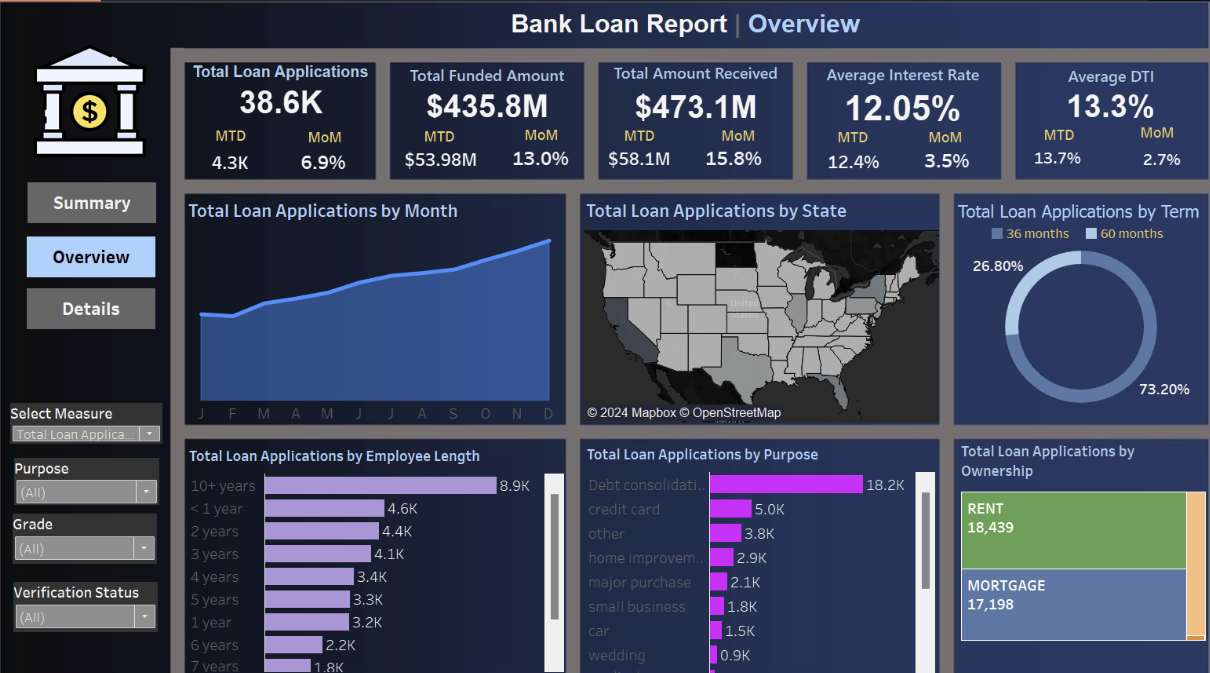

The page's visual inventory and layout, read from the dashboard file:
{"tool":"powerbi","page":{"name":"Overview","canvas":[1280,720],"ordinal":1},"visuals":[{"type":"shape","box":[0,0,1280,70],"z":0},{"type":"shape","box":[194.3,80.5,194.3,117.2],"z":0,"group":"g4"},{"type":"shape","box":[408.3,81.1,194.3,117.2],"z":0,"group":"g1"},{"type":"shape","box":[623.8,81.1,194.3,117.2],"z":0,"group":"g2"},{"type":"shape","box":[837.2,81.1,194.3,117.2],"z":0,"group":"g5"},{"type":"shape","box":[1050.8,82.2,194.3,117.2],"z":0,"group":"g3"},{"type":"shape","box":[0,70,185,650],"z":1000},{"type":"cardVisual","fields":{"Data":["Loan Mesures.Total Loan Amount"]},"box":[397.8,89.1,227,79],"z":1000,"group":"g1"},{"type":"cardVisual","fields":{"Data":["Loan Mesures.Total Amount Received"]},"box":[613.3,89.1,227,79],"z":1000,"group":"g2"},{"type":"cardVisual","fields":{"Data":["Loan Mesures.Avg Interest Rate"]},"box":[826.7,89.1,227,79],"z":1000,"group":"g5"},{"type":"cardVisual","fields":{"Data":["Loan Mesures.Avg DTI"]},"box":[1040.3,90.2,227,79],"z":1000,"group":"g3"},{"type":"cardVisual","title":"MoM","fields":{"Data":["Loan Mesures.MoM Loan Applications"]},"box":[304,151,84,46],"z":1000,"group":"g4"},{"type":"textbox","box":[374,4,598,66],"z":2000},{"type":"textbox","box":[397.8,82.4,205,28.8],"z":2000,"group":"g1"},{"type":"textbox","box":[613.3,82.4,205,28.8],"z":2000,"group":"g2"},{"type":"textbox","box":[826.7,82.4,205,28.8],"z":2000,"group":"g5"},{"type":"textbox","box":[1040.3,83.5,205,28.8],"z":2000,"group":"g3"},{"type":"cardVisual","fields":{"Data":["bank_loan_data.Total Loan Applications"]},"box":[195,86.8,193.5,80],"z":2000,"group":"g4"},{"type":"textbox","box":[183.8,81.8,205,28.8],"z":3000,"group":"g4"},{"type":"cardVisual","title":"MTD","fields":{"Data":["Loan Mesures.MTD Founded Amount"]},"box":[408.6,153.6,83.3,45],"z":3000,"group":"g1"},{"type":"cardVisual","title":"MTD","fields":{"Data":["Loan Mesures.MTD Amount Received"]},"box":[624.1,153.6,83.3,45],"z":3000,"group":"g2"},{"type":"cardVisual","title":"MTD","fields":{"Data":["Loan Mesures.MTD Avg Interest Rate"]},"box":[837.5,153.6,83.3,45],"z":3000,"group":"g5"},{"type":"cardVisual","title":"MTD","fields":{"Data":["Loan Mesures.MTD Avg DTI"]},"box":[1051.1,154.7,83.3,45],"z":3000,"group":"g3"},{"type":"shape","box":[194,216,405,235],"z":3000},{"type":"group","id":"g1","title":"Group 2","box":[397.8,81.1,227,117.5],"z":4000},{"type":"cardVisual","title":"MoM","fields":{"Data":["Loan Mesures.MoM Founded Amount"]},"box":[518.8,152.1,84,46],"z":4000,"group":"g1"},{"type":"cardVisual","title":"MoM","fields":{"Data":["Loan Mesures.MoM Amount Received"]},"box":[734.3,152.1,84,46],"z":4000,"group":"g2"},{"type":"cardVisual","title":"MoM","fields":{"Data":["Loan Mesures.MoM Avg Interest Rate"]},"box":[947.7,152.1,84,46],"z":4000,"group":"g5"},{"type":"cardVisual","title":"MTD","fields":{"Data":["Loan Mesures.MTD Loan Applications"]},"box":[194,152.4,84.2,45.8],"z":4000,"group":"g4"},{"type":"cardVisual","title":"MoM","fields":{"Data":["Loan Mesures.MoM Avg DTI"]},"box":[1161.3,153.2,84,46],"z":4000,"group":"g3"},{"type":"group","id":"g2","title":"Group 2","box":[613.3,81.1,227.8,117.8],"z":5000},{"type":"group","id":"g3","title":"Group 2","box":[1040.3,82.2,227,117.5],"z":6000},{"type":"group","id":"g4","title":"Group 1","box":[183.8,80.5,205,117.7],"z":7000},{"type":"group","id":"g5","title":"Group 2","box":[826.7,81.1,226.7,118.9],"z":8000},{"type":"slicer","fields":{"Values":["bank_loan_data.address_state"]},"box":[8.1,449,167.1,57.1],"z":9000},{"type":"textbox","box":[8.1,413.3,185.7,35.7],"z":10000},{"type":"slicer","fields":{"Values":["bank_loan_data.grade"]},"box":[9.5,549.5,167.1,57.1],"z":11000},{"type":"textbox","box":[9.5,513.8,185.7,35.7],"z":12000},{"type":"slicer","fields":{"Values":["bank_loan_data.good vs bad loan"]},"box":[9.5,645.7,167.1,57.1],"z":13000},{"type":"textbox","box":[9.5,610,185.7,35.7],"z":14000},{"type":"areaChart","fields":{"Y":["Loan Mesures.Total Loan Applications"],"Category":["Date Table.Month"]},"box":[196,226,403,226],"z":15000},{"type":"slicer","fields":{"Values":["Select Measure.Select Measure"]},"box":[5.1,343.8,176,60],"z":16000},{"type":"textbox","box":[5.1,307.8,158,36],"z":17000},{"type":"shape","box":[613,218,377,234],"z":18000},{"type":"shapeMap","fields":{"Value":["Loan Mesures.Total Loan Applications"],"Category":["bank_loan_data.address_state"]},"box":[613,226,418,224],"z":19000},{"type":"shape","box":[1002,216,244,235],"z":20000},{"type":"donutChart","fields":{"Y":["Loan Mesures.Total Loan Applications"],"Category":["bank_loan_data.term"]},"box":[1002,226,254,226],"z":21000},{"type":"shape","box":[192.9,461.4,404.3,247.1],"z":22000},{"type":"barChart","fields":{"Y":["Loan Mesures.Total Loan Applications"],"Category":["bank_loan_data.emp_length"]},"box":[195.7,474.3,404.3,234.3],"z":23000},{"type":"shape","box":[612.9,461.4,377.1,247.1],"z":24000},{"type":"barChart","fields":{"Y":["Loan Mesures.Total Loan Applications"],"Category":["bank_loan_data.purpose"]},"box":[624.3,475.7,365.7,232.9],"z":25000},{"type":"shape","box":[1001.4,467.1,244.3,241.4],"z":26000},{"type":"treemap","fields":{"Values":["Loan Mesures.Total Loan Applications"],"Group":["bank_loan_data.home_ownership"]},"box":[1007.1,477.1,238.6,231.4],"z":27000},{"type":"pageNavigator","box":[7.1,121.4,167.1,175.7],"z":28000}]}

Visuals, with their boxes in screenshot pixels (x1, y1, x2, y2), scaled from the page's 1280x720 canvas onto the 1210x673 screenshot:
shape: [x1=0, y1=0, x2=1209, y2=65]
shape: [x1=184, y1=75, x2=367, y2=185]
shape: [x1=386, y1=76, x2=570, y2=185]
shape: [x1=590, y1=76, x2=773, y2=185]
shape: [x1=791, y1=76, x2=975, y2=185]
shape: [x1=993, y1=77, x2=1177, y2=186]
shape: [x1=0, y1=65, x2=175, y2=672]
cardVisual - Loan Mesures.Total Loan Amount: [x1=376, y1=83, x2=591, y2=157]
cardVisual - Loan Mesures.Total Amount Received: [x1=580, y1=83, x2=794, y2=157]
cardVisual - Loan Mesures.Avg Interest Rate: [x1=781, y1=83, x2=996, y2=157]
cardVisual - Loan Mesures.Avg DTI: [x1=983, y1=84, x2=1198, y2=158]
"MoM" cardVisual: [x1=287, y1=141, x2=367, y2=184]
textbox: [x1=354, y1=4, x2=919, y2=65]
textbox: [x1=376, y1=77, x2=570, y2=104]
textbox: [x1=580, y1=77, x2=774, y2=104]
textbox: [x1=781, y1=77, x2=975, y2=104]
textbox: [x1=983, y1=78, x2=1177, y2=105]
cardVisual - bank_loan_data.Total Loan Applications: [x1=184, y1=81, x2=367, y2=156]
textbox: [x1=174, y1=76, x2=368, y2=103]
"MTD" cardVisual: [x1=386, y1=144, x2=465, y2=186]
"MTD" cardVisual: [x1=590, y1=144, x2=669, y2=186]
"MTD" cardVisual: [x1=792, y1=144, x2=870, y2=186]
"MTD" cardVisual: [x1=994, y1=145, x2=1072, y2=187]
shape: [x1=183, y1=202, x2=566, y2=422]
"Group 2" group: [x1=376, y1=76, x2=591, y2=186]
"MoM" cardVisual: [x1=490, y1=142, x2=570, y2=185]
"MoM" cardVisual: [x1=694, y1=142, x2=774, y2=185]
"MoM" cardVisual: [x1=896, y1=142, x2=975, y2=185]
"MTD" cardVisual: [x1=183, y1=142, x2=263, y2=185]
"MoM" cardVisual: [x1=1098, y1=143, x2=1177, y2=186]
"Group 2" group: [x1=580, y1=76, x2=795, y2=186]
"Group 2" group: [x1=983, y1=77, x2=1198, y2=187]
"Group 1" group: [x1=174, y1=75, x2=368, y2=185]
"Group 2" group: [x1=781, y1=76, x2=996, y2=187]
slicer - bank_loan_data.address_state: [x1=8, y1=420, x2=166, y2=473]
textbox: [x1=8, y1=386, x2=183, y2=420]
slicer - bank_loan_data.grade: [x1=9, y1=514, x2=167, y2=567]
textbox: [x1=9, y1=480, x2=185, y2=514]
slicer - bank_loan_data.good vs bad loan: [x1=9, y1=604, x2=167, y2=657]
textbox: [x1=9, y1=570, x2=185, y2=604]
areaChart - Loan Mesures.Total Loan Applications x Date Table.Month: [x1=185, y1=211, x2=566, y2=422]
slicer - Select Measure.Select Measure: [x1=5, y1=321, x2=171, y2=377]
textbox: [x1=5, y1=288, x2=154, y2=321]
shape: [x1=579, y1=204, x2=936, y2=422]
shapeMap - Loan Mesures.Total Loan Applications x bank_loan_data.address_state: [x1=579, y1=211, x2=975, y2=421]
shape: [x1=947, y1=202, x2=1178, y2=422]
donutChart - Loan Mesures.Total Loan Applications x bank_loan_data.term: [x1=947, y1=211, x2=1187, y2=422]
shape: [x1=182, y1=431, x2=565, y2=662]
barChart - Loan Mesures.Total Loan Applications x bank_loan_data.emp_length: [x1=185, y1=443, x2=567, y2=662]
shape: [x1=579, y1=431, x2=936, y2=662]
barChart - Loan Mesures.Total Loan Applications x bank_loan_data.purpose: [x1=590, y1=445, x2=936, y2=662]
shape: [x1=947, y1=437, x2=1178, y2=662]
treemap - Loan Mesures.Total Loan Applications x bank_loan_data.home_ownership: [x1=952, y1=446, x2=1178, y2=662]
pageNavigator: [x1=7, y1=113, x2=165, y2=278]
